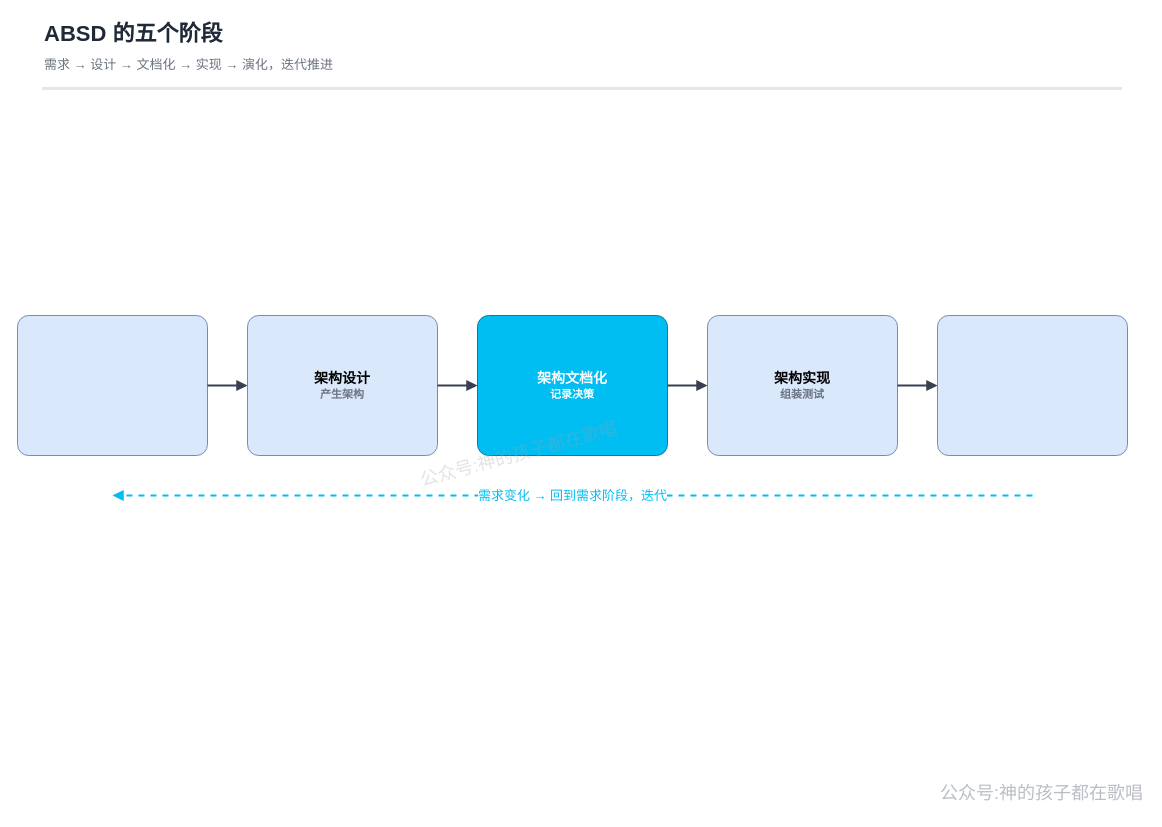
Some shapes in this 1162 by 827 pixel diagram are drawn without their labels. Here are the shapes that lost their labels. From the top down, the centre of each, then its label:
At point 112,385: "架构需求 标识构件".
At point 1032,385: "架构演化 管理变化".
